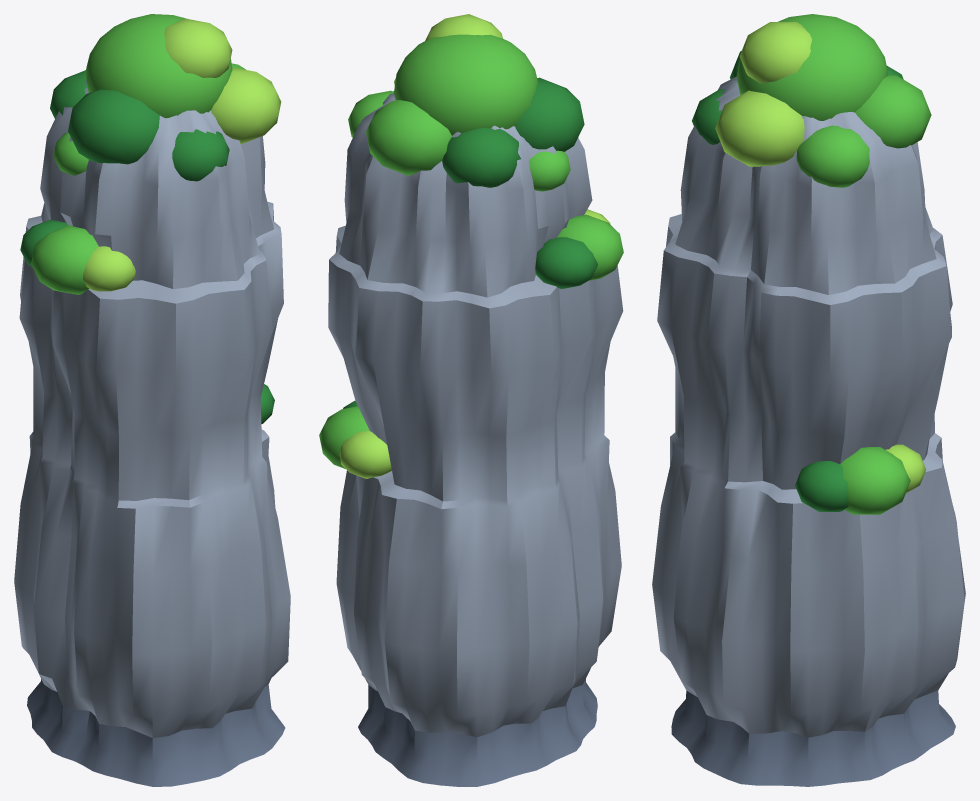
File: rock_karst.glb
3 renders of one model, left to right at view 1: azimuth 30°, elevation 25°; view 2: azimuth 150°, elevation 25°; view 3: azimuth 270°, elevation 25°, orthographic. The views are drawn at different scales.
Visible parts, largest first — view 1: rock_karst; view 2: rock_karst; view 3: rock_karst.
Part boxes in pixels (x1=…): rock_karst: x1=14, y1=14, x2=290, y2=786; rock_karst: x1=319, y1=14, x2=623, y2=786; rock_karst: x1=652, y1=14, x2=965, y2=786.
Bounding box in the file's own units: 3.19 × 8.17 × 3.22.
